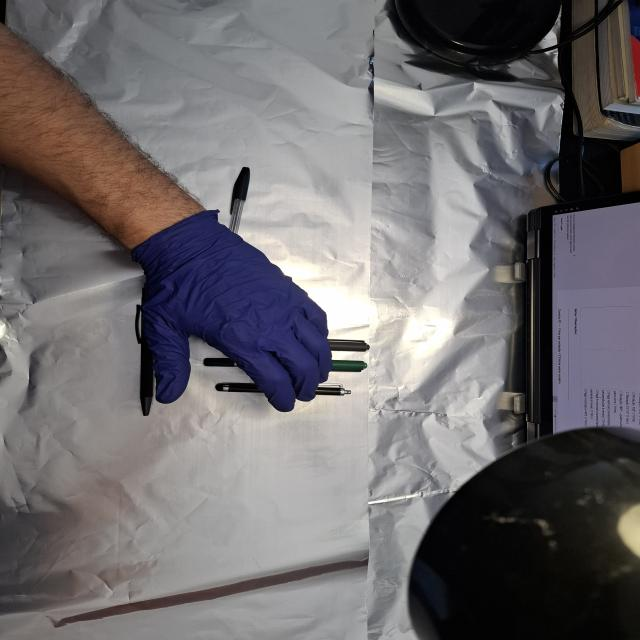glove_on: (122, 210, 336, 414)
